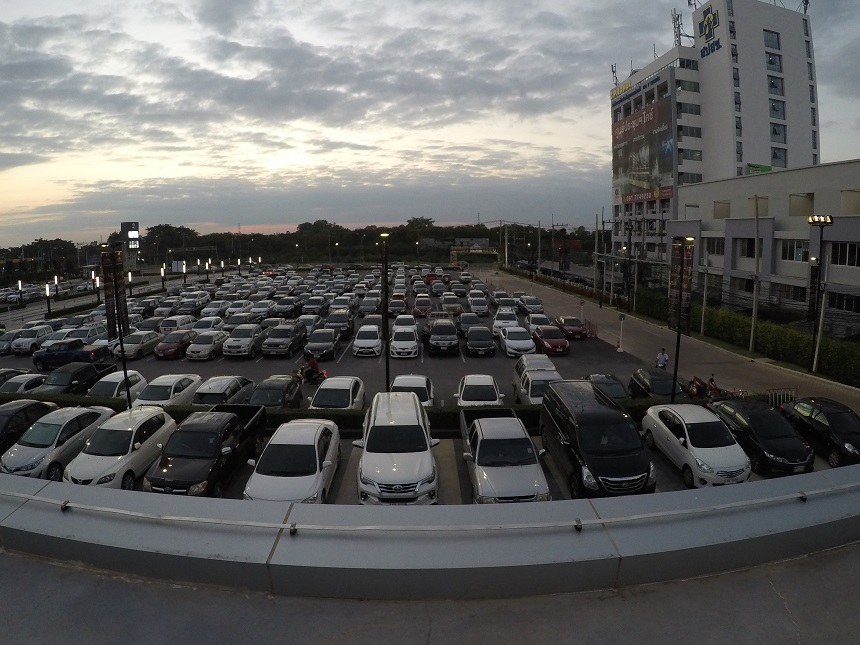busy: (572, 443, 661, 488), (250, 445, 331, 493), (468, 449, 549, 496), (357, 449, 439, 493), (164, 439, 237, 486), (80, 427, 149, 471), (687, 439, 747, 482), (17, 426, 72, 457), (818, 413, 860, 452), (762, 438, 805, 468), (313, 381, 364, 406), (455, 378, 504, 404), (510, 368, 560, 391), (255, 376, 297, 403), (146, 378, 191, 402), (391, 376, 434, 401), (642, 374, 680, 396), (204, 379, 242, 400), (590, 376, 626, 397), (223, 336, 256, 357), (307, 337, 336, 360), (102, 376, 137, 395), (53, 374, 86, 394), (147, 339, 183, 357), (260, 337, 293, 356), (388, 341, 421, 359), (464, 337, 497, 354), (350, 337, 380, 355), (429, 335, 457, 354), (188, 339, 215, 358), (503, 334, 530, 352), (1, 404, 25, 424), (541, 334, 567, 352), (67, 332, 90, 350), (39, 337, 63, 354), (118, 342, 140, 359), (14, 336, 36, 352), (13, 378, 36, 389), (94, 338, 110, 349), (1, 334, 7, 349), (1, 369, 10, 376)
